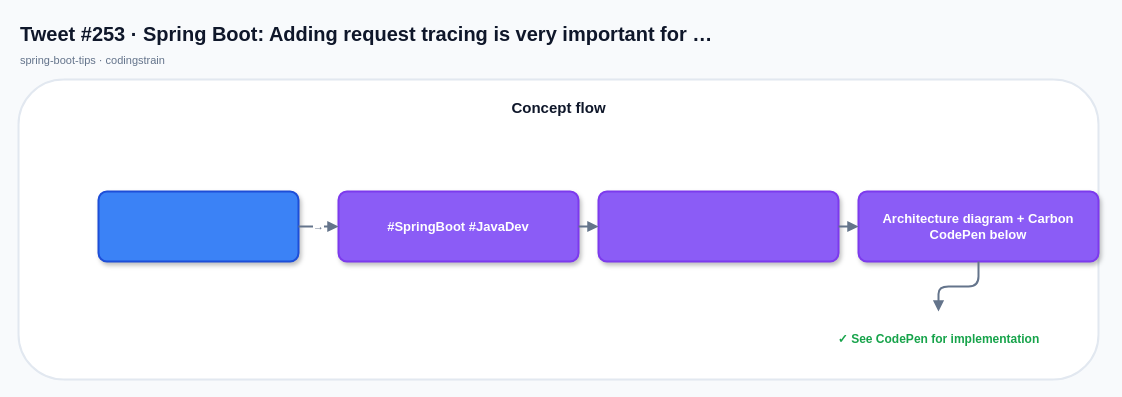
Some shapes in this 1122 by 397 pixel diagram are drawn without their labels. Here are the shapes that lost their labels. From the top down, the centre of each, then its label:
point 199,227: Problem / context
point 719,227: Runnable sample: `spring-boot-tips`
